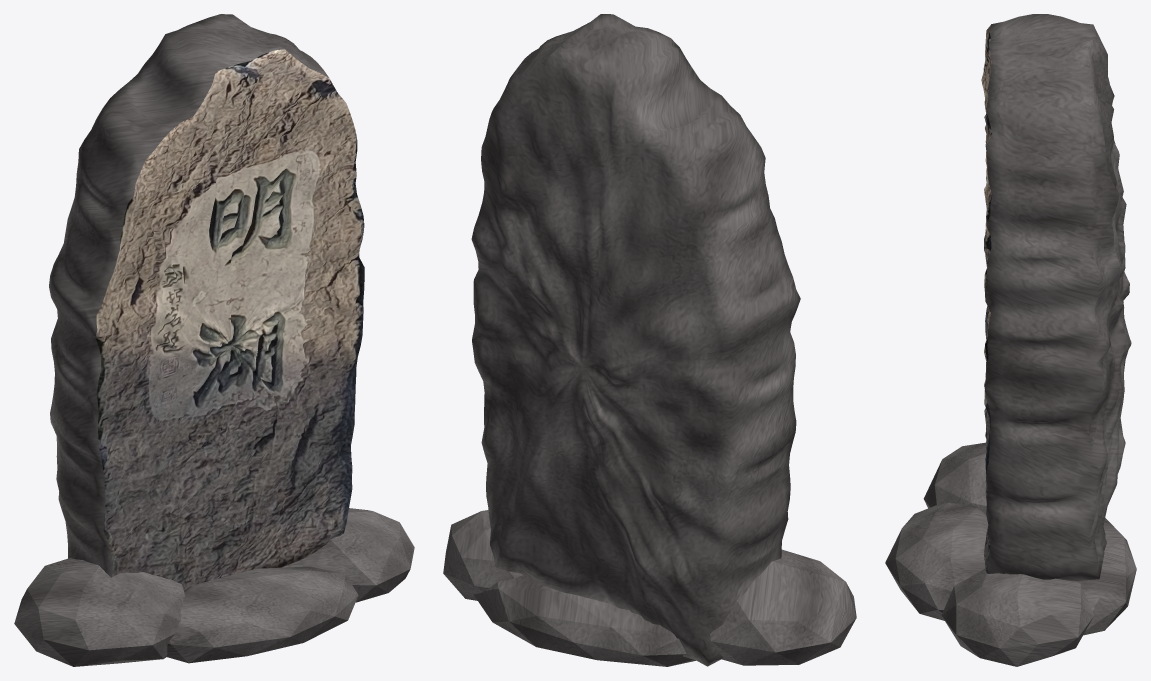
File: minghu-stele.glb
3 renders of one model, left to right at view 1: azimuth 30°, elevation 25°; view 2: azimuth 150°, elevation 25°; view 3: azimuth 270°, elevation 25°, orthographic. The views are drawn at different scales.
Parts seen in each view (by area): view 1: Minghu_SolidStele, Minghu_FootRock_Left, Minghu_FootRock_Front, Minghu_FootRock_Right; view 2: Minghu_SolidStele, Minghu_FootRock_Left, Minghu_FootRock_Back, Minghu_FootRock_Right; view 3: Minghu_SolidStele, Minghu_FootRock_Right, Minghu_FootRock_Front, Minghu_FootRock_Back, Minghu_FootRock_Left.
Part boxes in pixels (box(x1,y1,x2,y2)): Minghu_SolidStele: box(49, 14, 364, 589); Minghu_FootRock_Left: box(14, 557, 184, 666); Minghu_FootRock_Front: box(166, 566, 358, 663); Minghu_FootRock_Right: box(288, 508, 414, 602); Minghu_SolidStele: box(471, 14, 800, 666); Minghu_FootRock_Left: box(707, 549, 856, 665); Minghu_FootRock_Back: box(474, 575, 695, 666); Minghu_FootRock_Right: box(443, 510, 523, 600); Minghu_SolidStele: box(981, 14, 1131, 581); Minghu_FootRock_Right: box(941, 568, 1093, 666); Minghu_FootRock_Front: box(885, 502, 988, 620); Minghu_FootRock_Back: box(1075, 518, 1136, 635); Minghu_FootRock_Left: box(923, 442, 986, 512).
Bounding box in the file's own units: 2.37 × 3.35 × 1.36.
2 materials, 2 textured.
